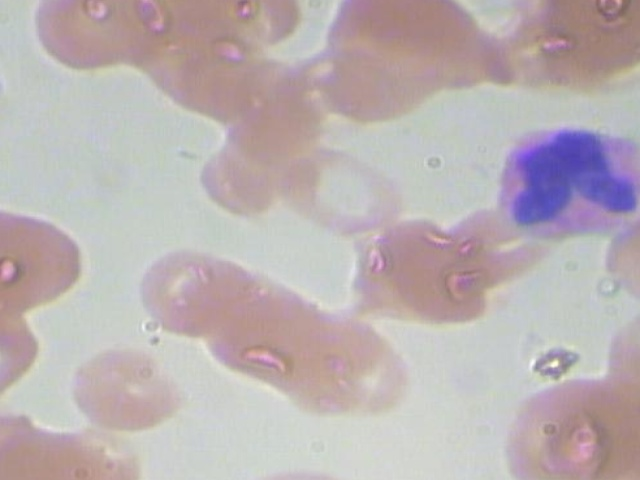RBC: (287, 313, 422, 409), (269, 141, 404, 236), (305, 32, 440, 127), (61, 341, 194, 433), (30, 0, 164, 81), (130, 243, 242, 333), (0, 195, 89, 308), (0, 305, 46, 402), (593, 222, 640, 307), (0, 407, 54, 480)
WBC: (480, 119, 640, 239)
